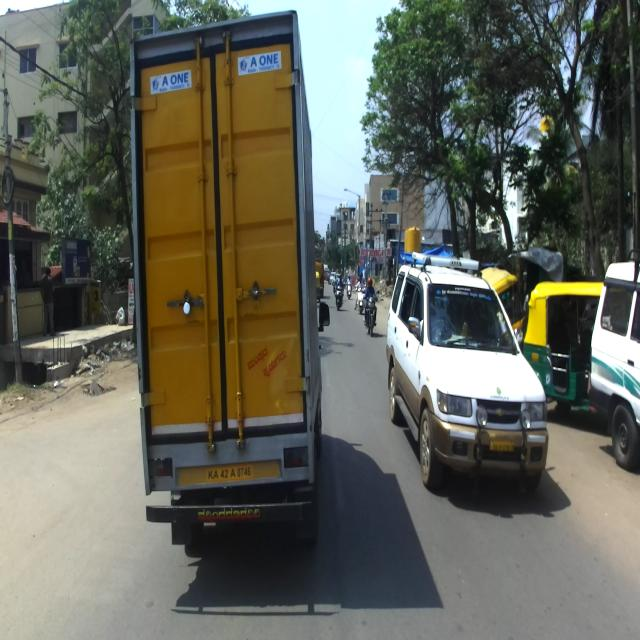car ahead at: (391, 252, 549, 496)
truck ahead at: (130, 36, 324, 536)
